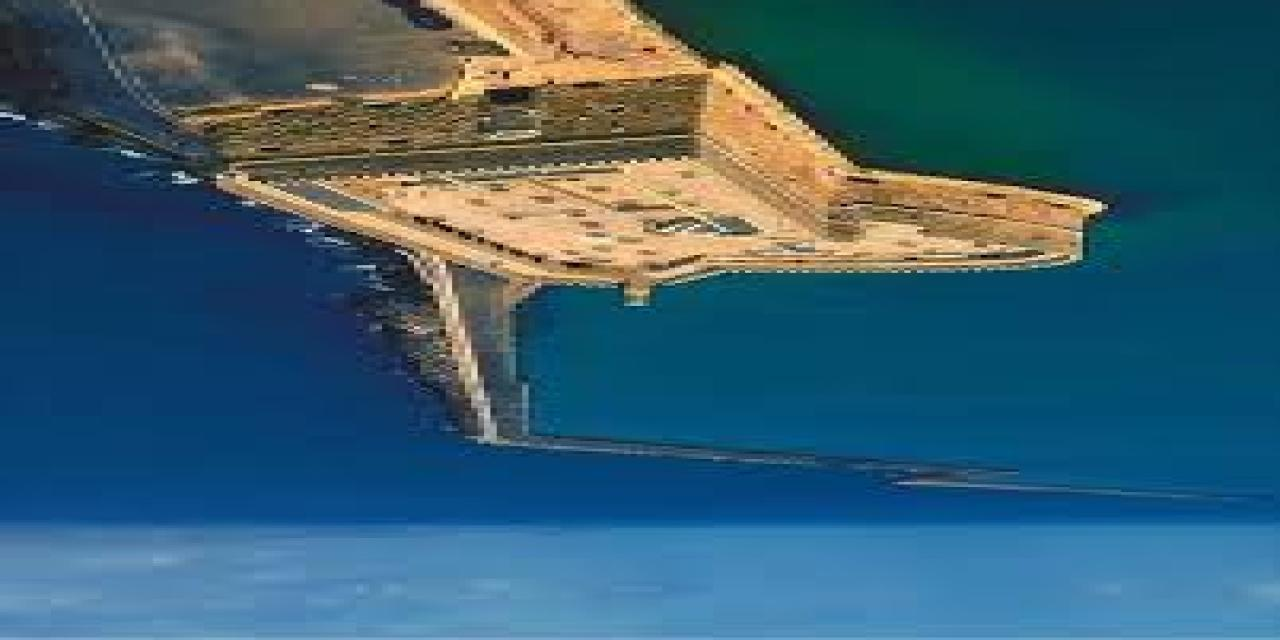Kules: (187, 62, 1120, 308)
